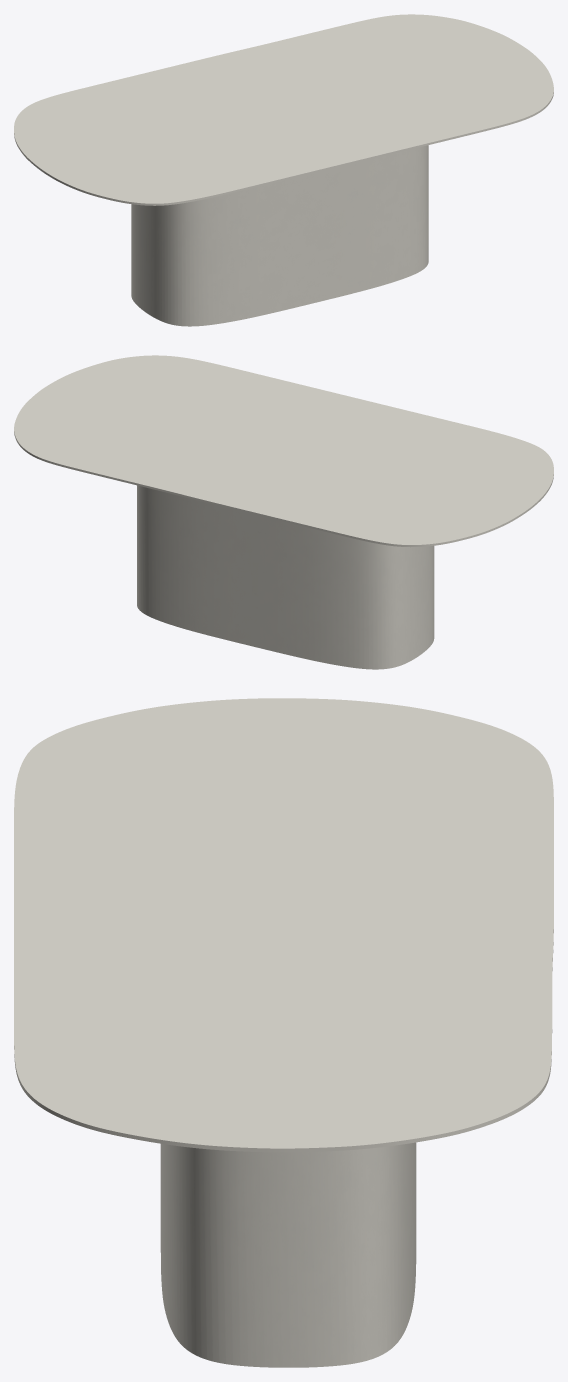
File: pale_oval_facet_fixed.glb
The picture shows the model from 3 angles, top to bottom: view 1: azimuth 30°, elevation 25°; view 2: azimuth 150°, elevation 25°; view 3: azimuth 270°, elevation 25°; orthographic projection. The views are drawn at different scales.
Visible parts, largest first — view 1: facet_oval, fixed; view 2: facet_oval, fixed; view 3: facet_oval, fixed.
Part boxes in pixels (x1,y1,x2,y2): facet_oval: [14, 14, 553, 205]; fixed: [131, 145, 428, 326]; facet_oval: [14, 355, 553, 547]; fixed: [137, 485, 434, 669]; facet_oval: [14, 698, 553, 1152]; fixed: [160, 1142, 416, 1367].
Bounding box in the file's own units: 7.5 × 2.5 × 3.8.
Materials: 1 (1 with a texture image).
